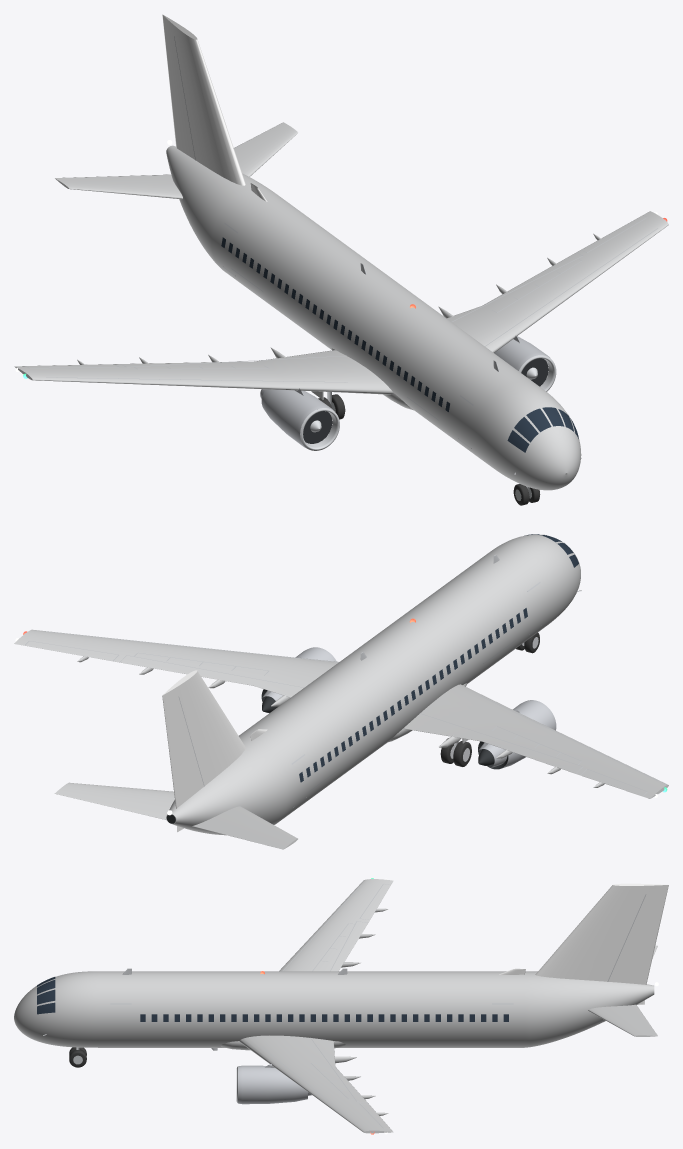
3 renders of one model, top to bottom at view 1: azimuth 30°, elevation 25°; view 2: azimuth 150°, elevation 25°; view 3: azimuth 270°, elevation 25°, orthographic. The views are drawn at different scales.
Parts seen in each view (by area): view 1: airframe, gear; view 2: airframe, gear; view 3: airframe.
Part boxes in pixels (x1,y1,x2,y2): airframe: (14,14,668,490); gear: (311,391,540,505); airframe: (14,534,668,849); gear: (440,632,539,766); airframe: (14,878,668,1134).
Bounding box in the file's own units: 28.11 × 9.26 × 30.58.
